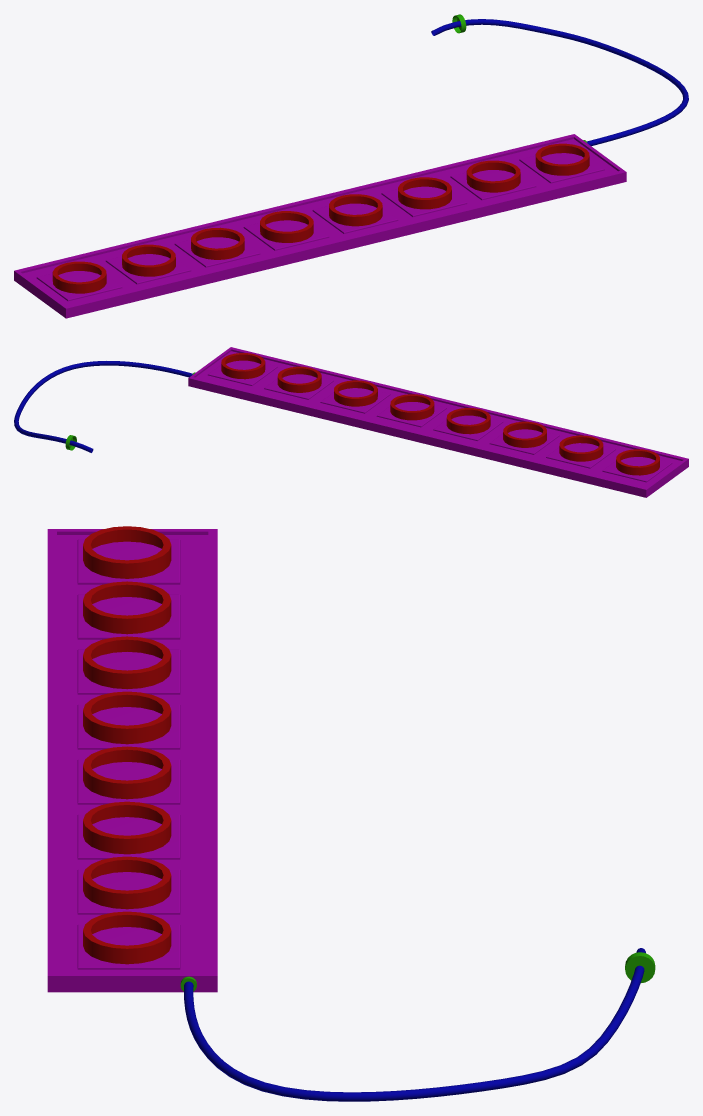
Rendered from SM_SocleSolutions.fbx.
The picture shows the model from 3 angles, top to bottom: view 1: azimuth 30°, elevation 25°; view 2: azimuth 150°, elevation 25°; view 3: azimuth 270°, elevation 25°; orthographic projection. The views are drawn at different scales.
Parts seen in each view (by area): view 1: polySurface19; view 2: polySurface19; view 3: polySurface19.
Boxes of the visible parts, x1,y1,x2,y2 form: polySurface19: [14, 14, 688, 318]; polySurface19: [14, 347, 688, 497]; polySurface19: [47, 526, 655, 1101].
Bounding box in the file's own units: 19.31 × 0.7987 × 8.88.
